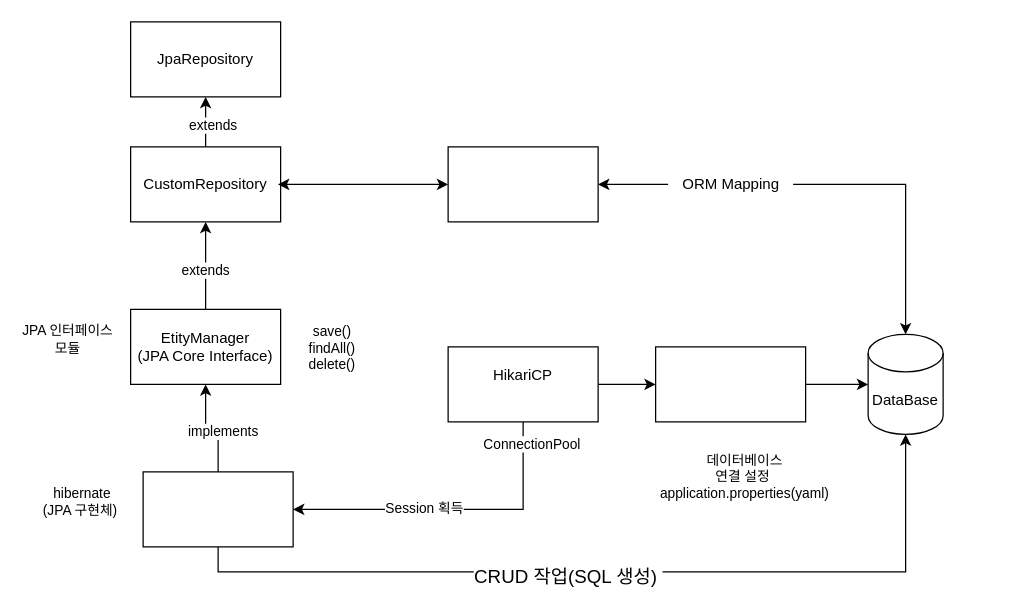
Image size: 1026x608. Some labels were removed from this diagram. The centre of each missing label's shape, as x and y in pixels:
"DataSource (Database Connection)" belongs at [730,384].
"Entity Class (Database Table Mapping)" belongs at [522,184].
"Hibernate (Session APi)" belongs at [217,509].
